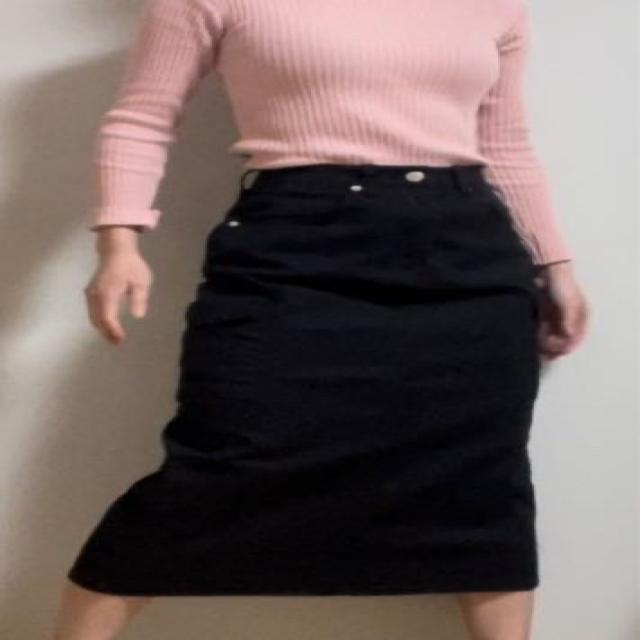skirt: (56, 159, 566, 599)
sweater: (85, 0, 580, 274)
